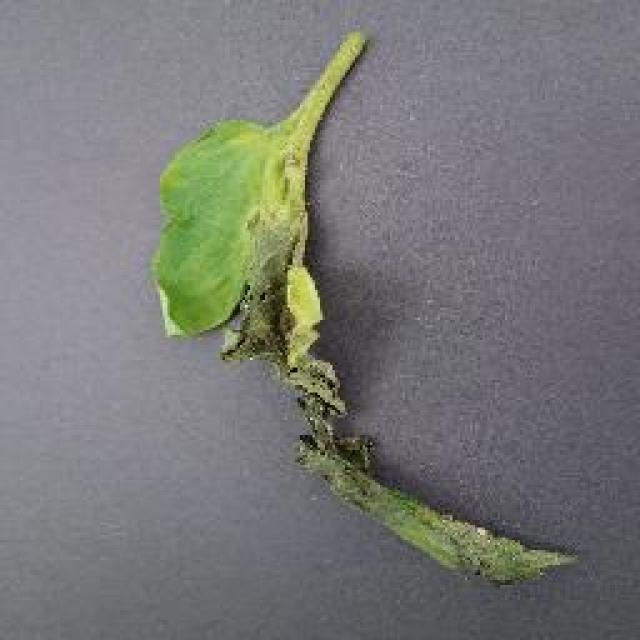Tomato___Late_blight: (151, 31, 585, 596)
